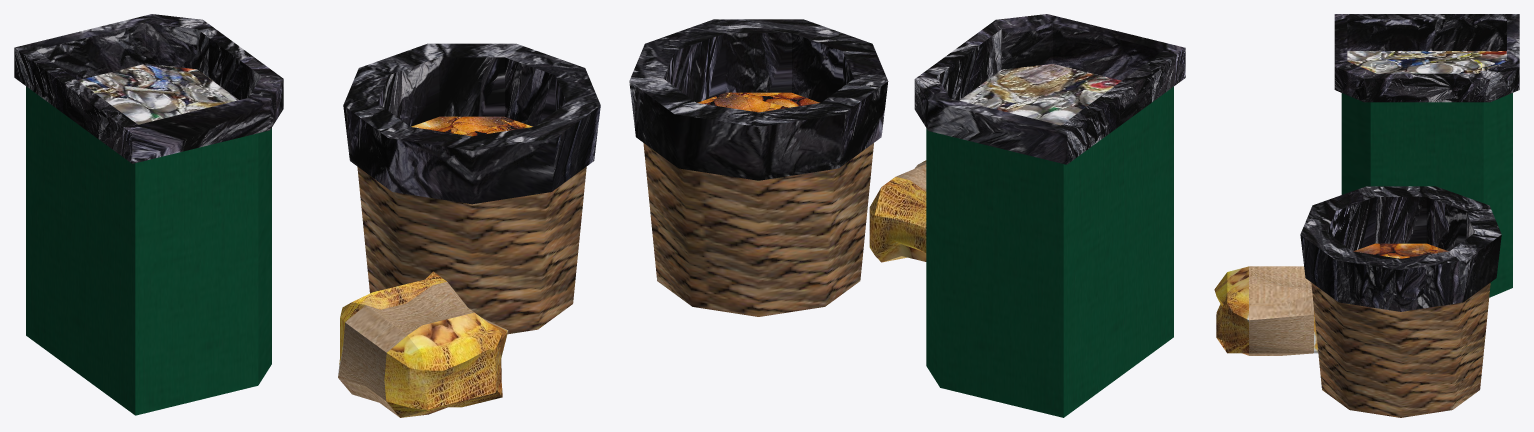
File: bins_and_potatoes.FBX
3 renders of one model, left to right at view 1: azimuth 30°, elevation 25°; view 2: azimuth 150°, elevation 25°; view 3: azimuth 270°, elevation 25°, orthographic. The views are drawn at different scales.
Visible parts, largest first — view 1: Box001, Object003, Cylinder001, Object001, Box002, Object004, Object002, Object005; view 2: Box001, Object003, Cylinder001, Object001, Object002, Box002, Object005; view 3: Object003, Cylinder001, Box001, Object001, Object004, Object002, Box002, Object005.
Part boxes in pixels (left/top/right/bottom): Box001: left=26, top=86, right=271, bottom=415; Object003: left=343, top=43, right=600, bottom=204; Cylinder001: left=357, top=166, right=586, bottom=334; Object001: left=14, top=14, right=283, bottom=163; Box002: left=338, top=271, right=508, bottom=417; Object004: left=338, top=282, right=506, bottom=417; Object002: left=78, top=63, right=238, bottom=124; Object005: left=411, top=116, right=532, bottom=136; Box001: left=926, top=86, right=1173, bottom=417; Object003: left=629, top=19, right=888, bottom=180; Cylinder001: left=643, top=143, right=873, bottom=316; Object001: left=914, top=14, right=1185, bottom=164; Object002: left=960, top=64, right=1121, bottom=125; Box002: left=869, top=160, right=926, bottom=262; Object005: left=697, top=92, right=819, bottom=112; Object003: left=1300, top=186, right=1501, bottom=311; Cylinder001: left=1311, top=282, right=1490, bottom=417; Box001: left=1341, top=93, right=1512, bottom=297; Object001: left=1334, top=14, right=1519, bottom=102; Object004: left=1249, top=266, right=1313, bottom=355; Object002: left=1347, top=51, right=1506, bottom=73; Box002: left=1214, top=266, right=1318, bottom=355; Object005: left=1353, top=243, right=1448, bottom=258.
Size of the model in its own units: 158 by 91.21 by 108.
7 materials, 7 textured.
